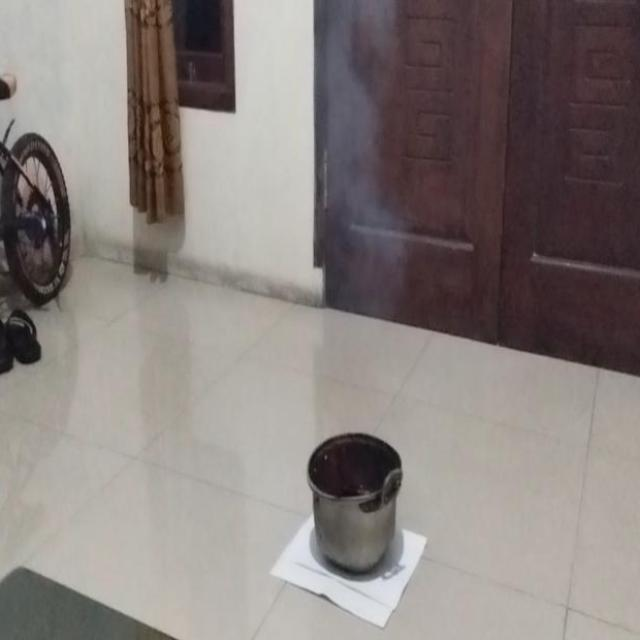fire: (312, 0, 401, 325)
